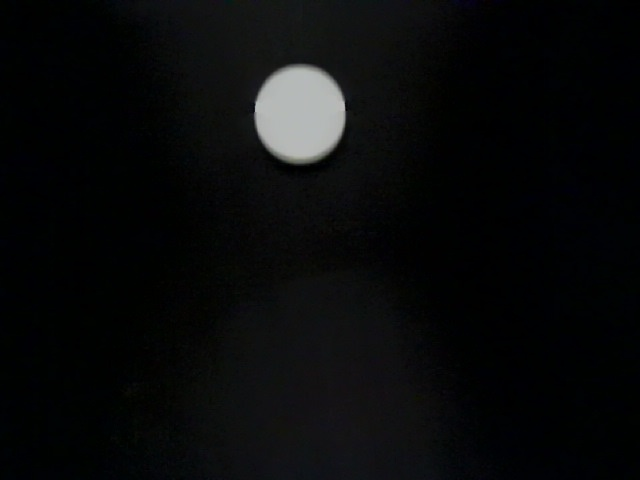CYLJ: (52, 120, 408, 432)
